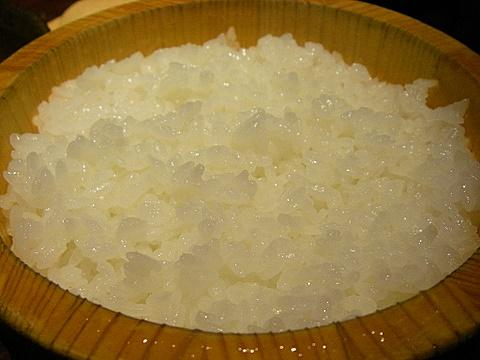rice: (0, 34, 479, 332)
